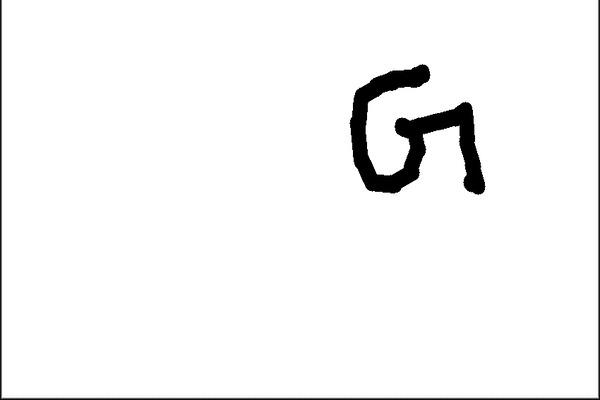G: (343, 61, 488, 202)
